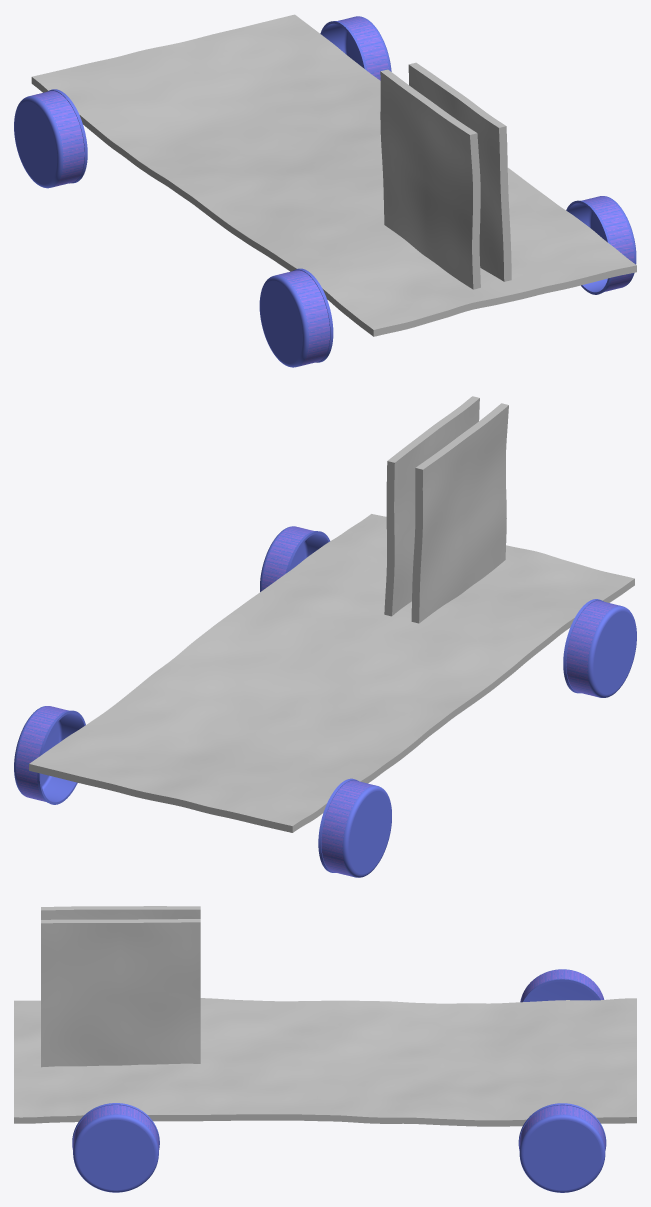
Rendered from Electric_Car.fbx.
3 renders of one model, top to bottom at view 1: azimuth 30°, elevation 25°; view 2: azimuth 150°, elevation 25°; view 3: azimuth 270°, elevation 25°, orthographic. The views are drawn at different scales.
Visible parts, largest first — view 1: Box001, Box002, Box003, coke_can_003, coke_can_004, coke_can_002, coke_can_001; view 2: Box001, Box002, Box003, coke_can_003, coke_can_004, coke_can_001, coke_can_002; view 3: Box001, Box003, coke_can_001, coke_can_002, Box002, coke_can_004.
Boxes of the visible parts, x1,y1,x2,y2 form: Box001: [31, 14, 636, 336]; Box002: [380, 69, 480, 289]; Box003: [408, 62, 511, 281]; coke_can_003: [259, 268, 333, 367]; coke_can_004: [14, 89, 87, 188]; coke_can_002: [566, 196, 636, 294]; coke_can_001: [320, 16, 391, 80]; Box001: [29, 514, 634, 832]; Box002: [411, 403, 508, 623]; Box003: [384, 396, 479, 616]; coke_can_003: [563, 599, 636, 697]; coke_can_004: [318, 778, 391, 877]; coke_can_001: [14, 706, 85, 804]; coke_can_002: [260, 526, 329, 591]; Box001: [14, 998, 636, 1126]; Box003: [41, 919, 200, 1067]; coke_can_001: [518, 1103, 606, 1192]; coke_can_002: [72, 1103, 159, 1192]; Box002: [41, 906, 200, 919]; coke_can_004: [520, 969, 604, 1002].
Size of the model in its own units: 25.36 by 16.34 by 45.
